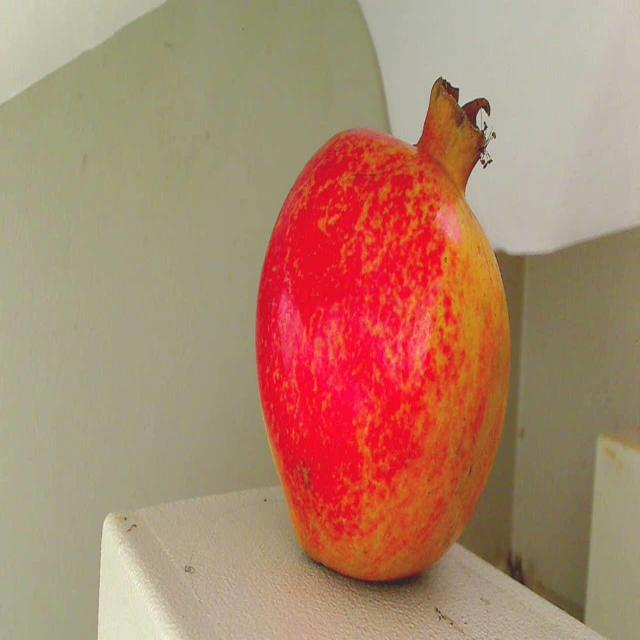pomegranate: (246, 71, 527, 599)
